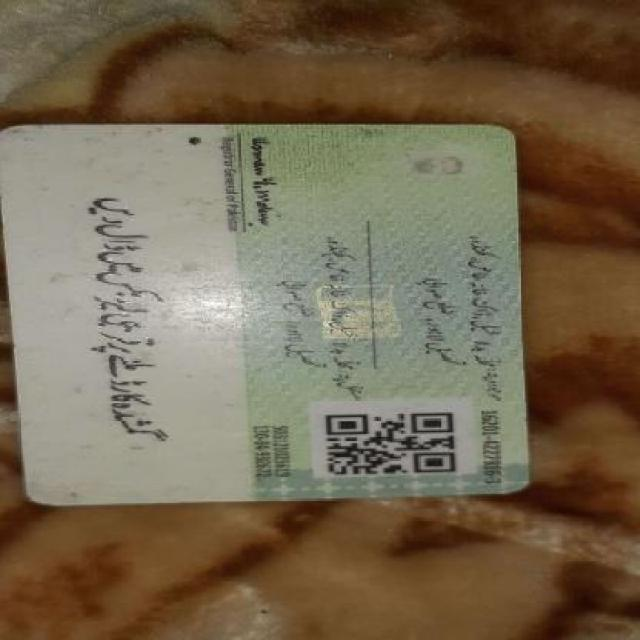Back: (0, 117, 548, 503)
